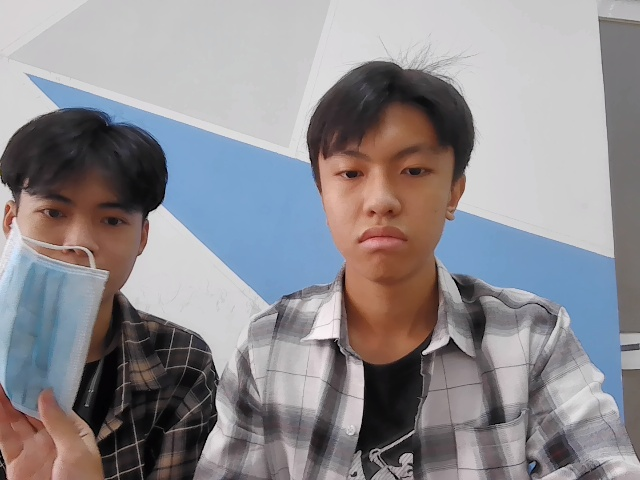human: (308, 48, 474, 275)
mask: (5, 213, 110, 441)
